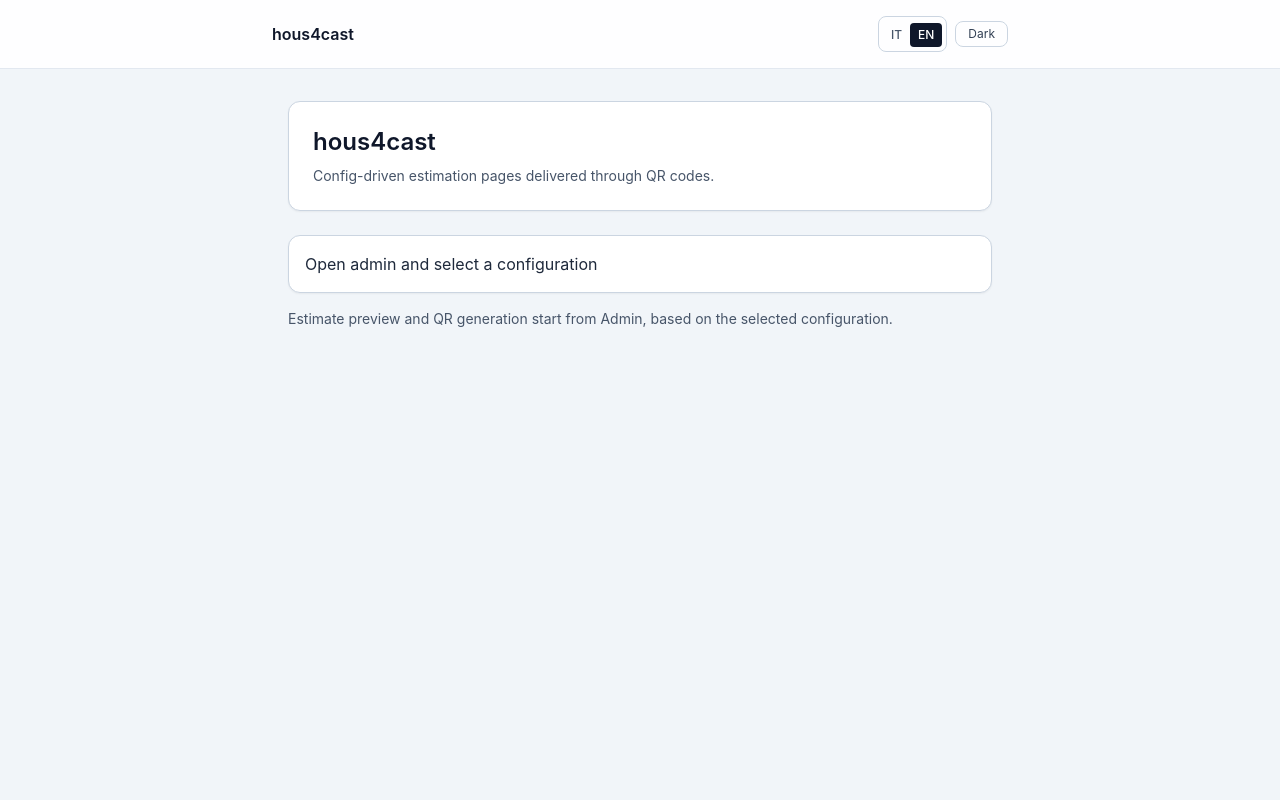
Test: App shell › toggles theme from top bar and updates dark mode state
The width and height of the screenshot is (1280, 800).
What coordinates should you click on to do the following:
click the button with aria-label "Switch to dark theme"
I would click on:
 (982, 34)
Its box is [955,21,1008,47].
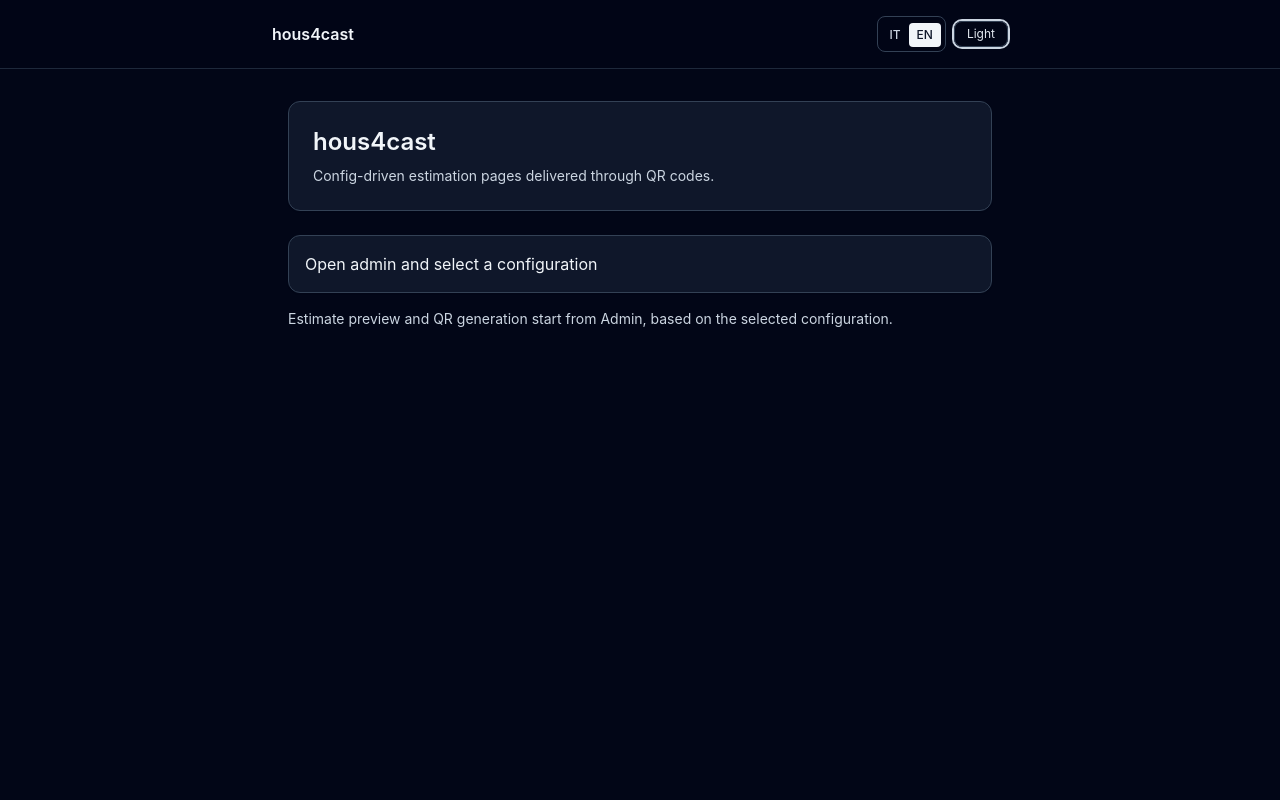
Now the button with aria-label "Switch to light theme" is shown, box [954,21,1008,47]
